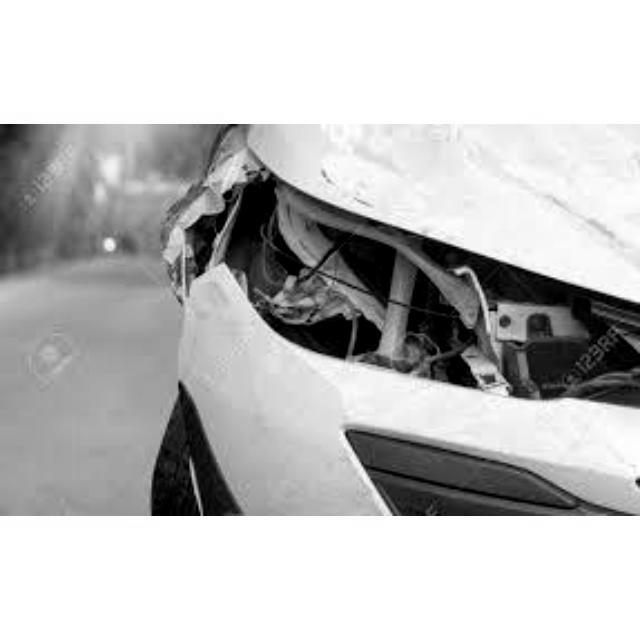Headlight-damage: (188, 142, 638, 425)
